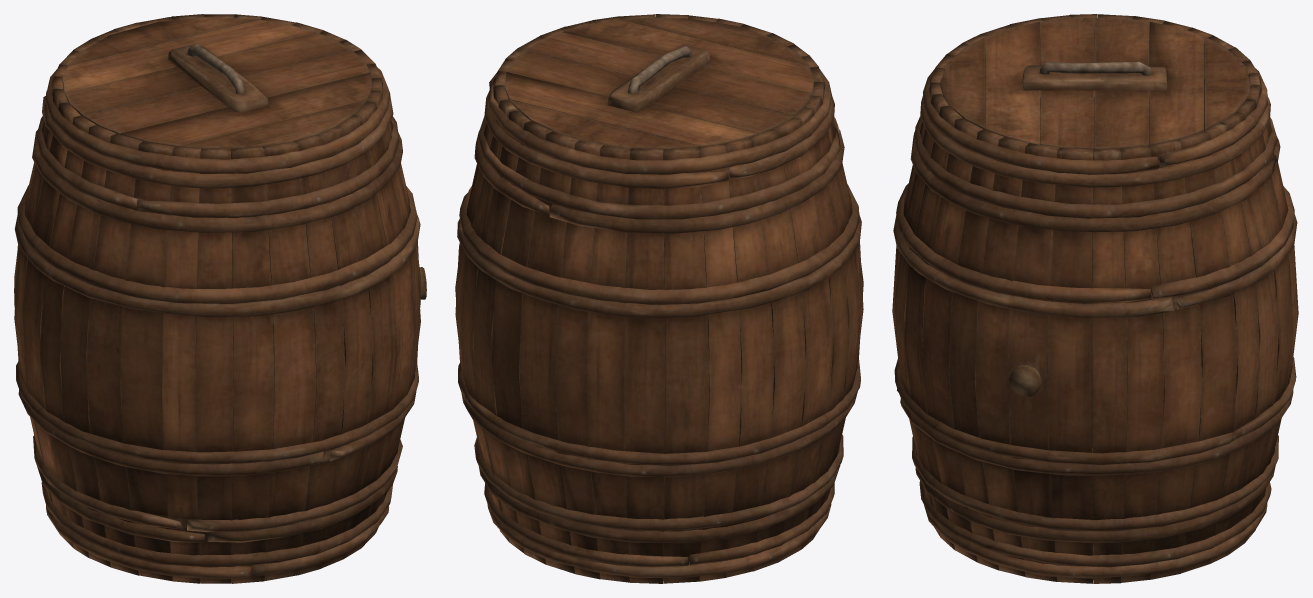
Rendered from barrel.glb.
3 renders of one model, left to right at view 1: azimuth 30°, elevation 25°; view 2: azimuth 150°, elevation 25°; view 3: azimuth 270°, elevation 25°, orthographic.
Parts seen in each view (by area): view 1: barrel.001; view 2: barrel.001; view 3: barrel.001.
Boxes of the visible parts, bbox=[...] form: barrel.001: bbox=[14, 14, 426, 583]; barrel.001: bbox=[455, 14, 863, 583]; barrel.001: bbox=[892, 14, 1298, 583].
Size of the model in its own units: 0.7434 by 0.9164 by 0.7434.
Materials: 1 (1 with a texture image).
